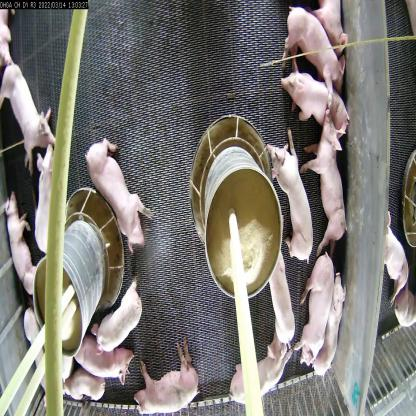Pig: (86, 128, 147, 256), (267, 141, 318, 277), (278, 10, 345, 84), (230, 333, 296, 408), (0, 186, 42, 297), (90, 278, 152, 353), (316, 121, 352, 250), (264, 232, 301, 355), (135, 349, 203, 415), (30, 145, 69, 258), (3, 56, 45, 159), (301, 241, 332, 376), (26, 317, 61, 416), (316, 270, 347, 380), (280, 68, 328, 134), (72, 342, 140, 386), (59, 362, 105, 415)
